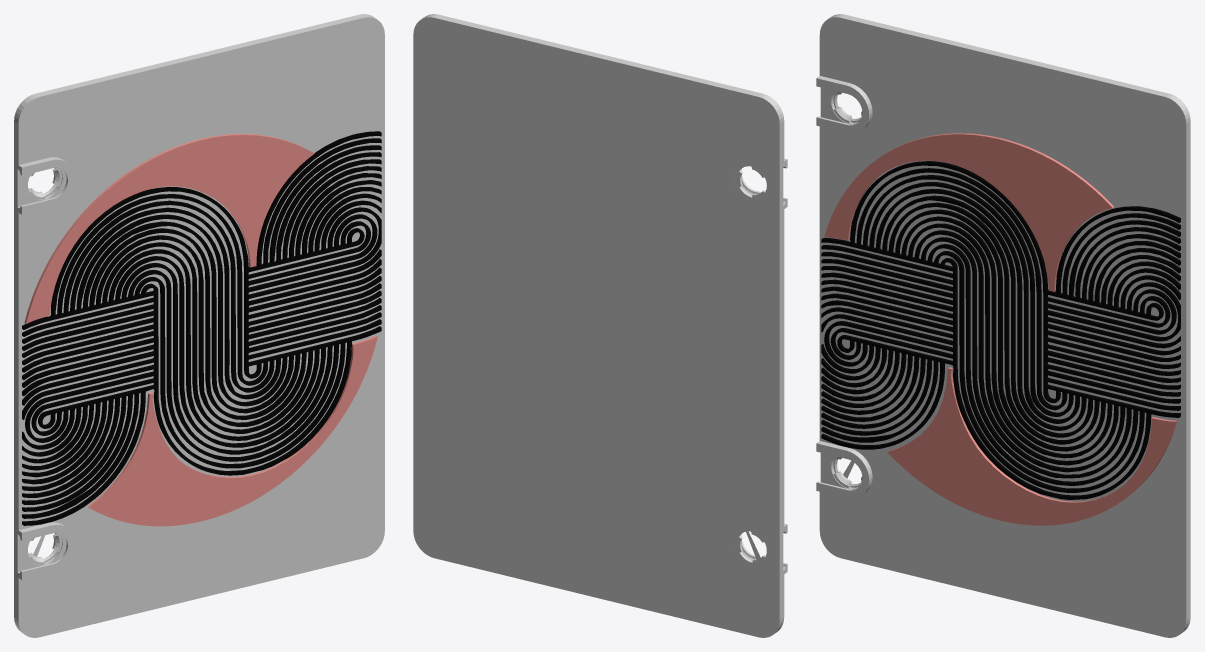
The model's file is a6_only_cover_v2.glb.
3 views of the same model, side by side, from view 1: azimuth 30°, elevation 25°; view 2: azimuth 150°, elevation 25°; view 3: azimuth 330°, elevation 25° (orthographic).
Parts seen in each view (by area): view 1: Body1.007, Body4.001, Body3.001, Body2.001; view 2: Body1.007; view 3: Body1.007, Body4.001, Body3.001, Body2.001.
Boxes of the visible parts, box(x1,y1,x2,y2) form: Body1.007: box(14, 14, 384, 637); Body4.001: box(22, 131, 381, 525); Body3.001: box(24, 134, 314, 323); Body2.001: box(87, 335, 377, 526); Body1.007: box(413, 14, 787, 637); Body1.007: box(816, 14, 1190, 637); Body4.001: box(821, 161, 1180, 499); Body3.001: box(824, 133, 1113, 291); Body2.001: box(887, 367, 1177, 525).
Bounding box in the file's own units: 0.105 × 0.148 × 0.0039.
